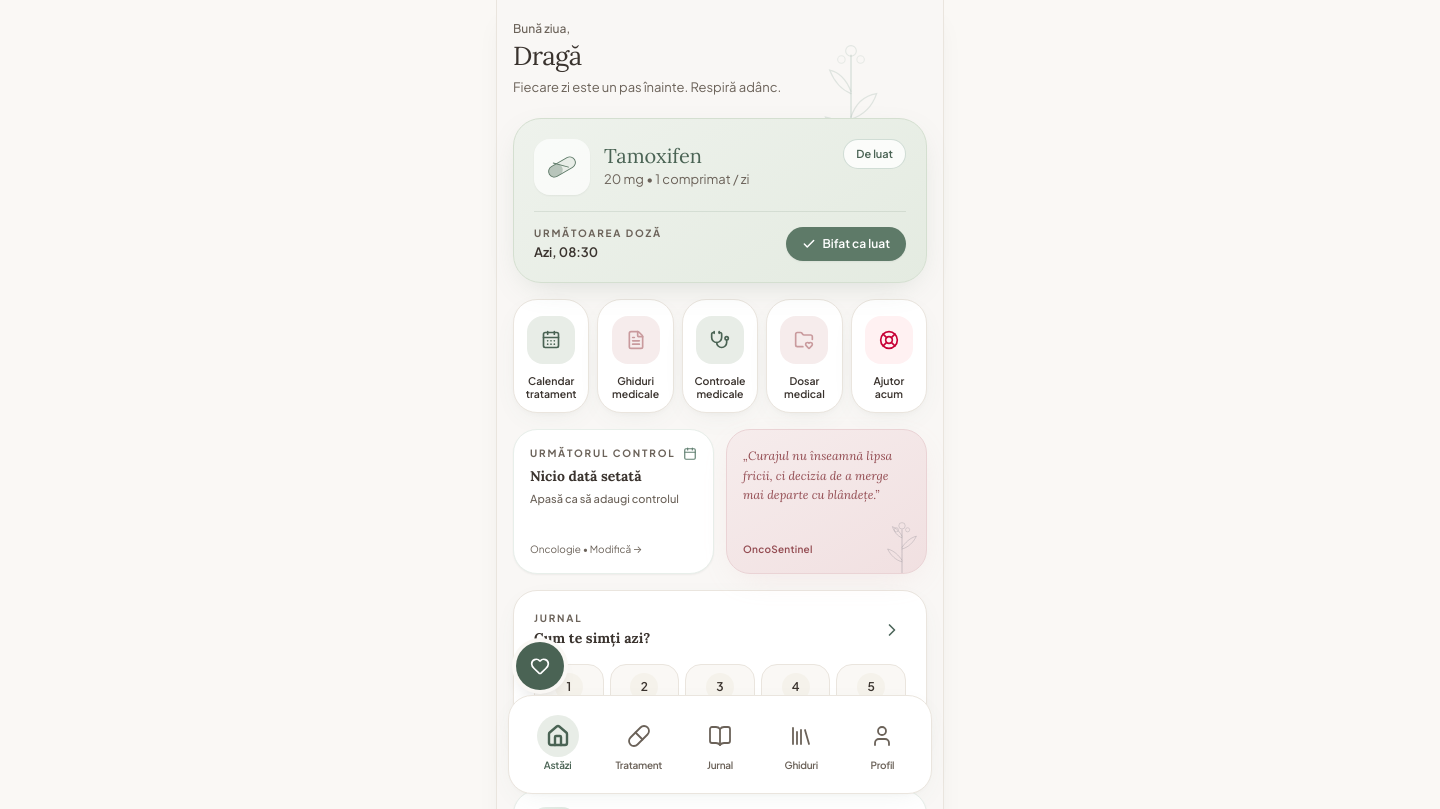
Am nevoie de liniște acum › „Nu încă” deschide „Ajutor” cu „E în regulă să ceri ajutor.”
The image size is (1440, 809).
Click the button named "Am nevoie de liniște acum" at [540, 666], box [516,642,564,690]
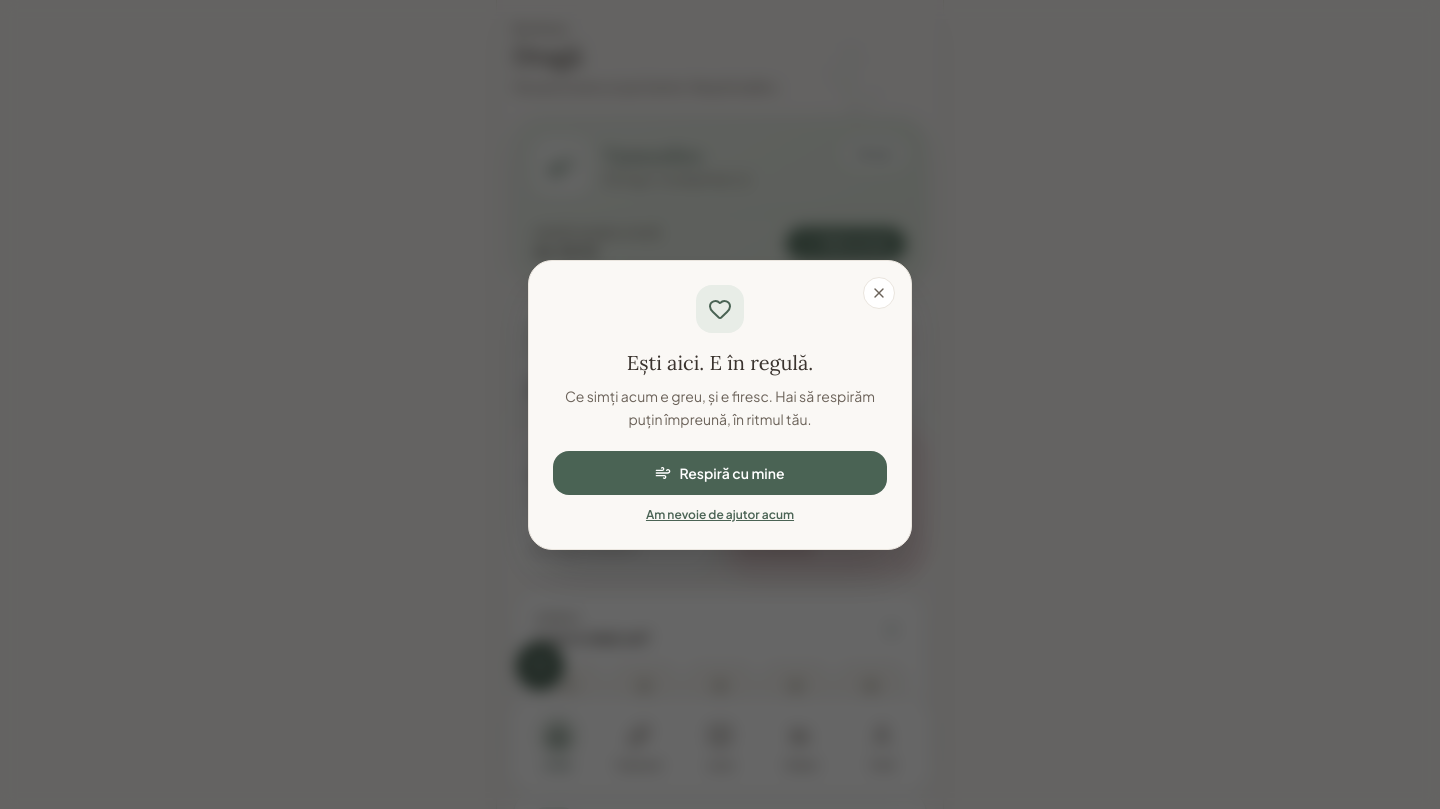
Click the button "Respiră cu mine" at [720, 473], box [553,451,887,495]
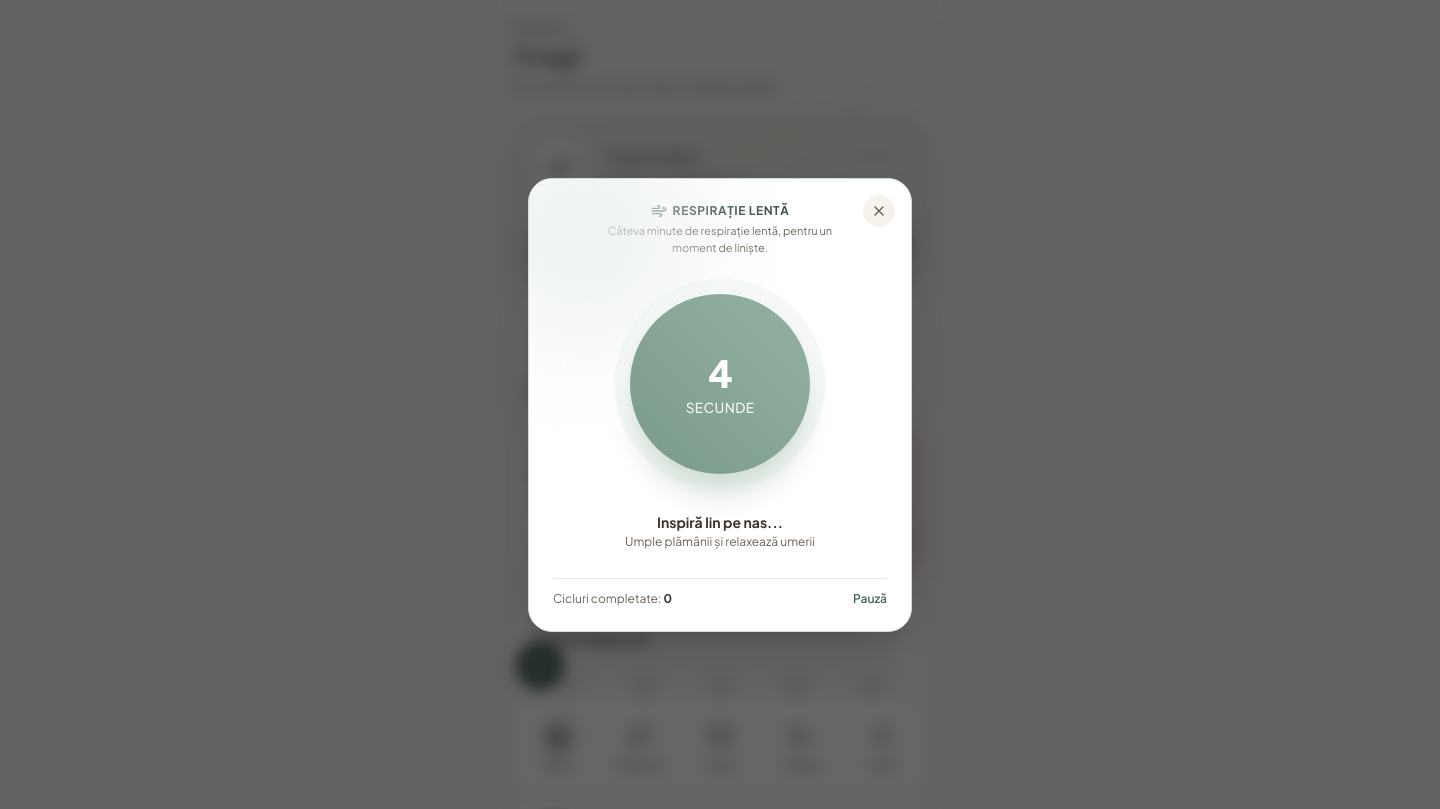
Click the button named "Închide" at [879, 211], box [863,195,895,227]
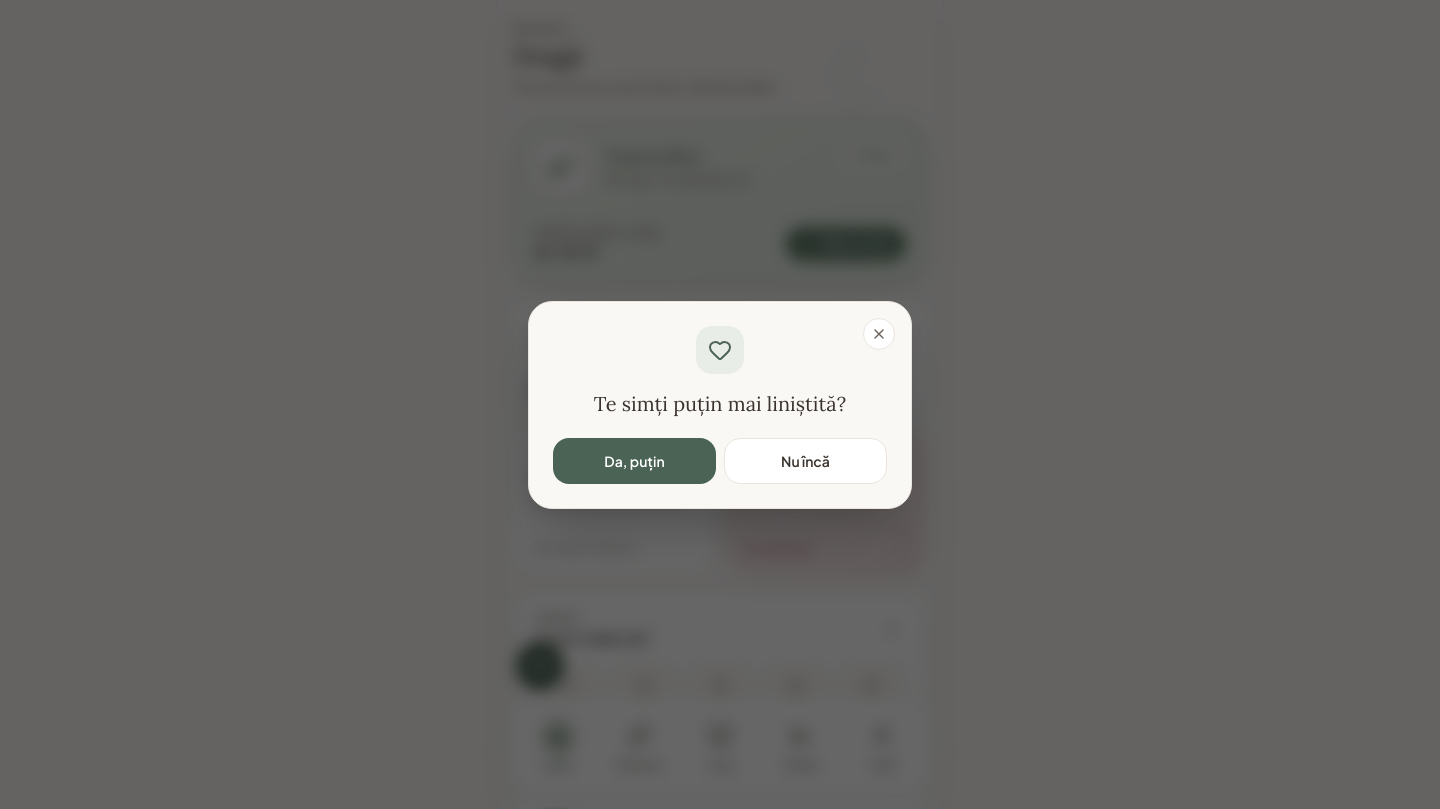
Click the button "Nu încă" at [806, 461], box [724,438,887,484]
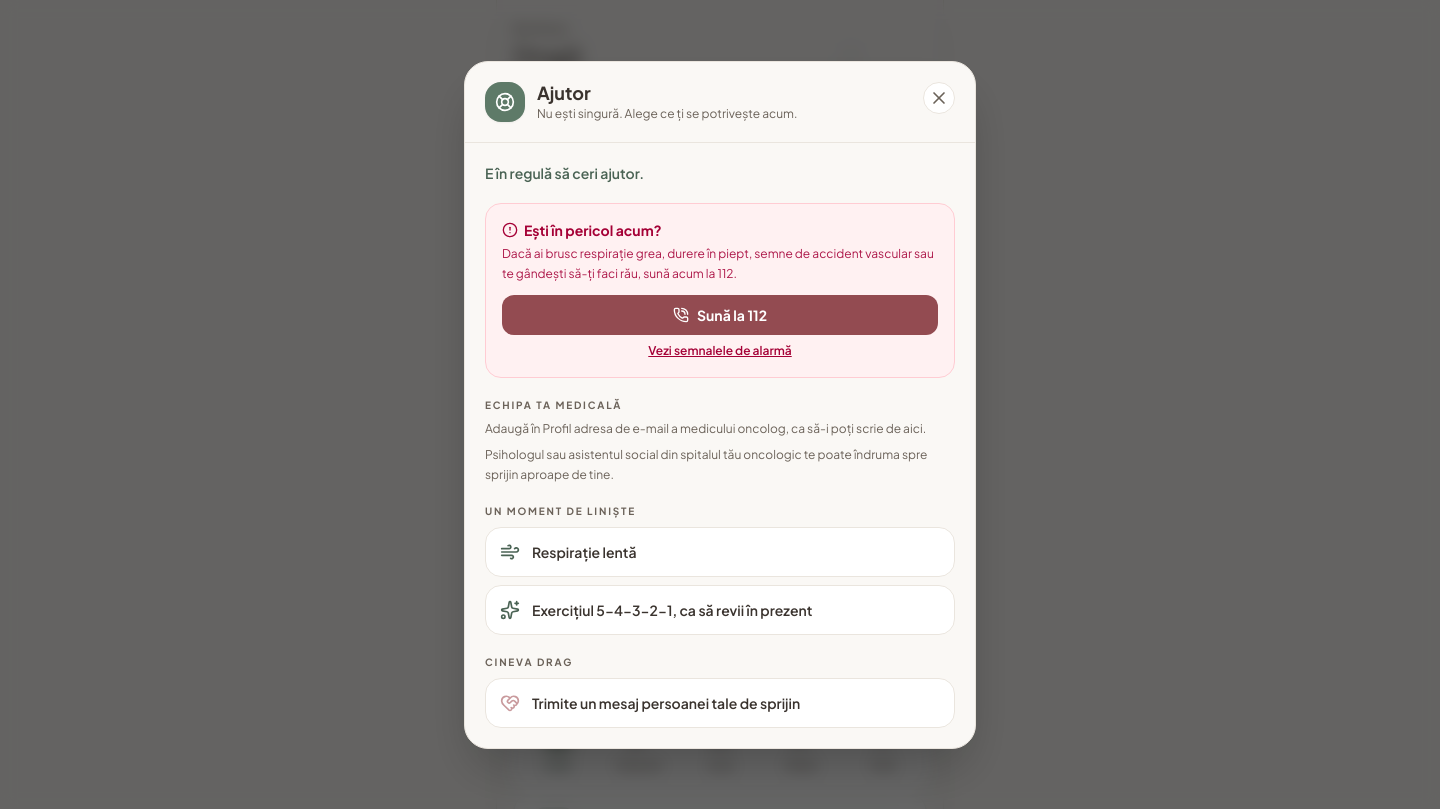
Now the text "E în regulă să ceri ajutor." is shown, box [485,164,644,182]
